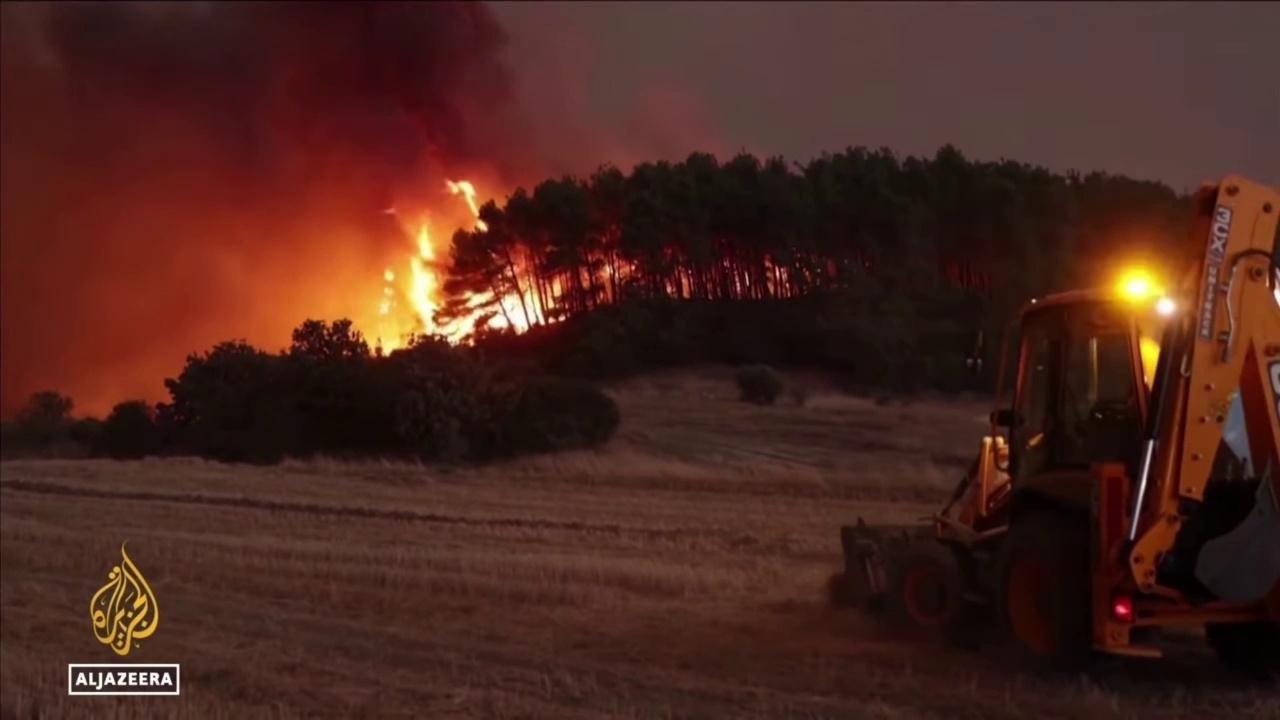fire: (375, 177, 840, 361)
smoke: (0, 0, 730, 427)
